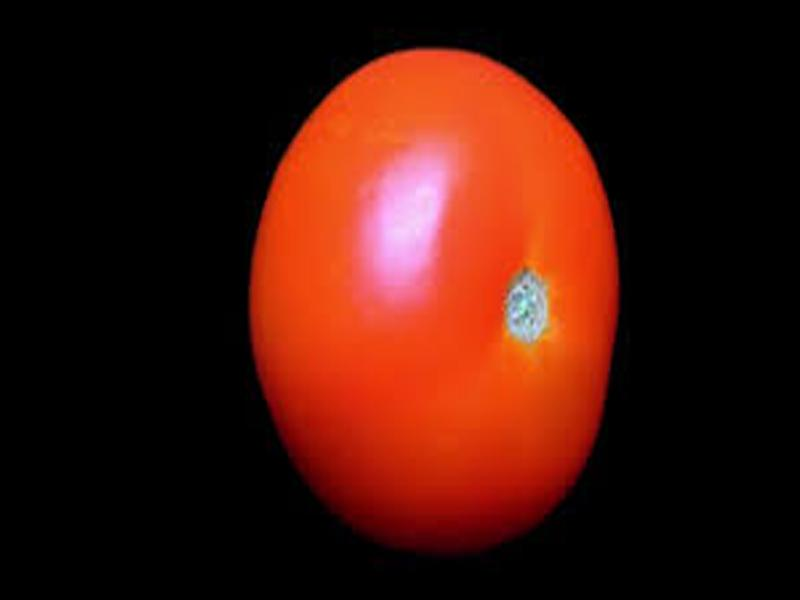Tomato: (250, 46, 618, 554)
